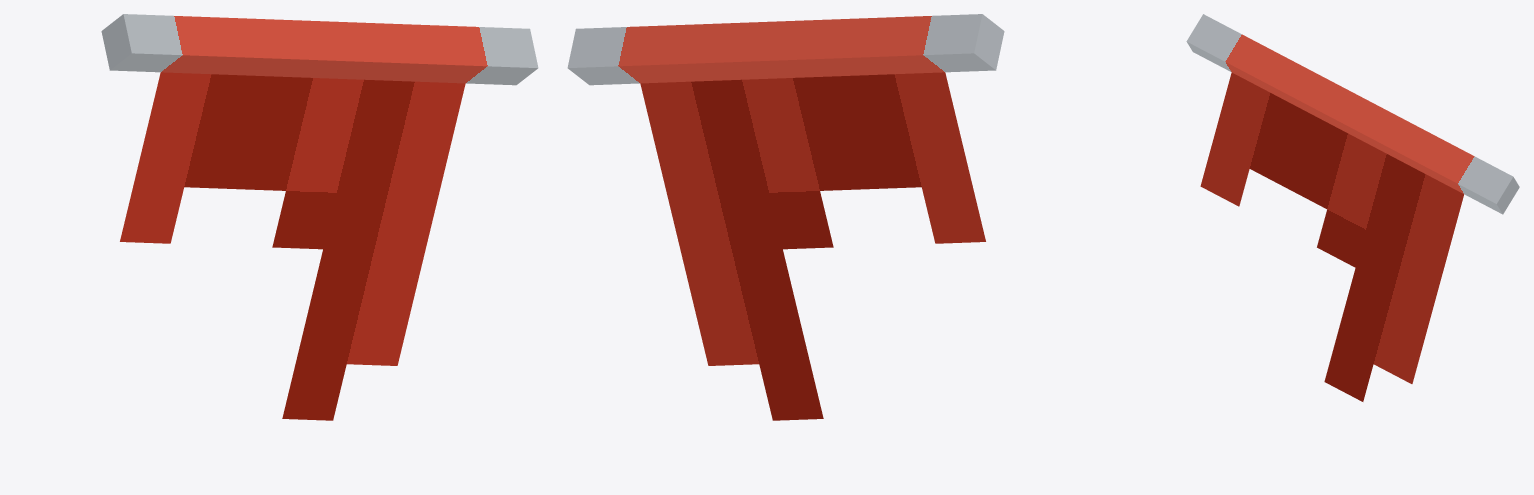
Rendered from banner_d.gltf.
The picture shows the model from 3 angles, left to right: view 1: azimuth 30°, elevation 25°; view 2: azimuth 150°, elevation 25°; view 3: azimuth 330°, elevation 25°; orthographic projection. The views are drawn at different scales.
Parts seen in each view (by area): view 1: banner_d; view 2: banner_d; view 3: banner_d.
Boxes of the visible parts, box(x1,y1,x2,y2) form: banner_d: box(101, 14, 538, 420); banner_d: box(567, 14, 1004, 420); banner_d: box(1186, 14, 1519, 401).
Size of the model in its own units: 1.22 by 1.22 by 0.125.
